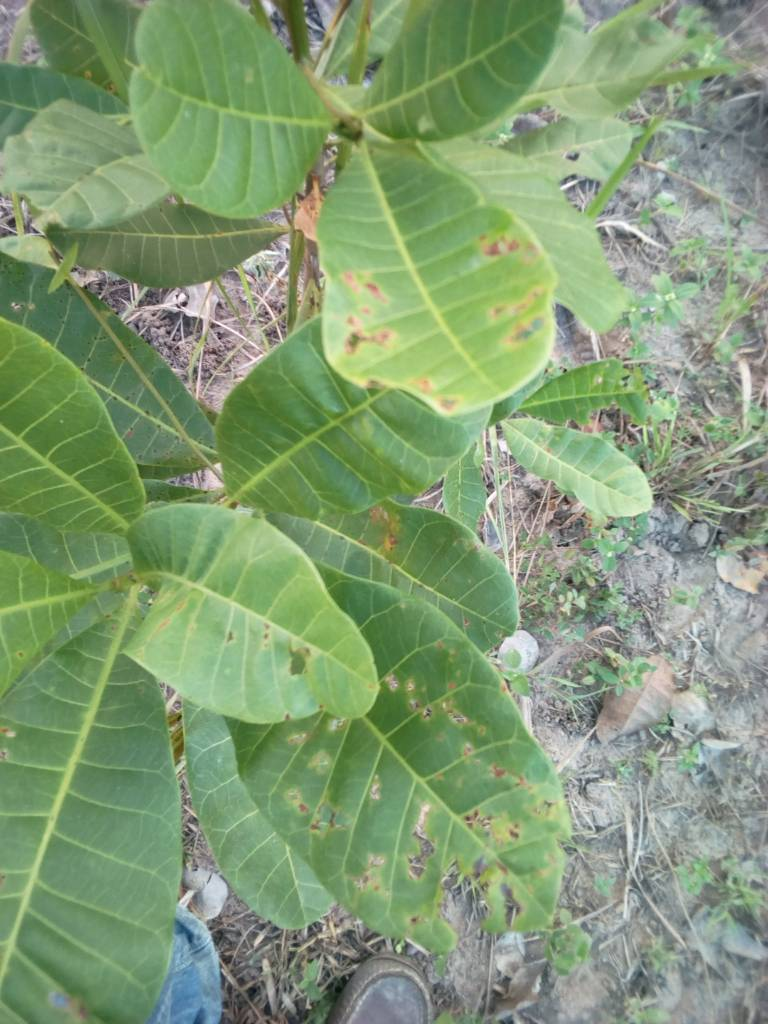Anoplocnemis curvipes: (157, 541, 594, 946), (308, 142, 557, 413)
